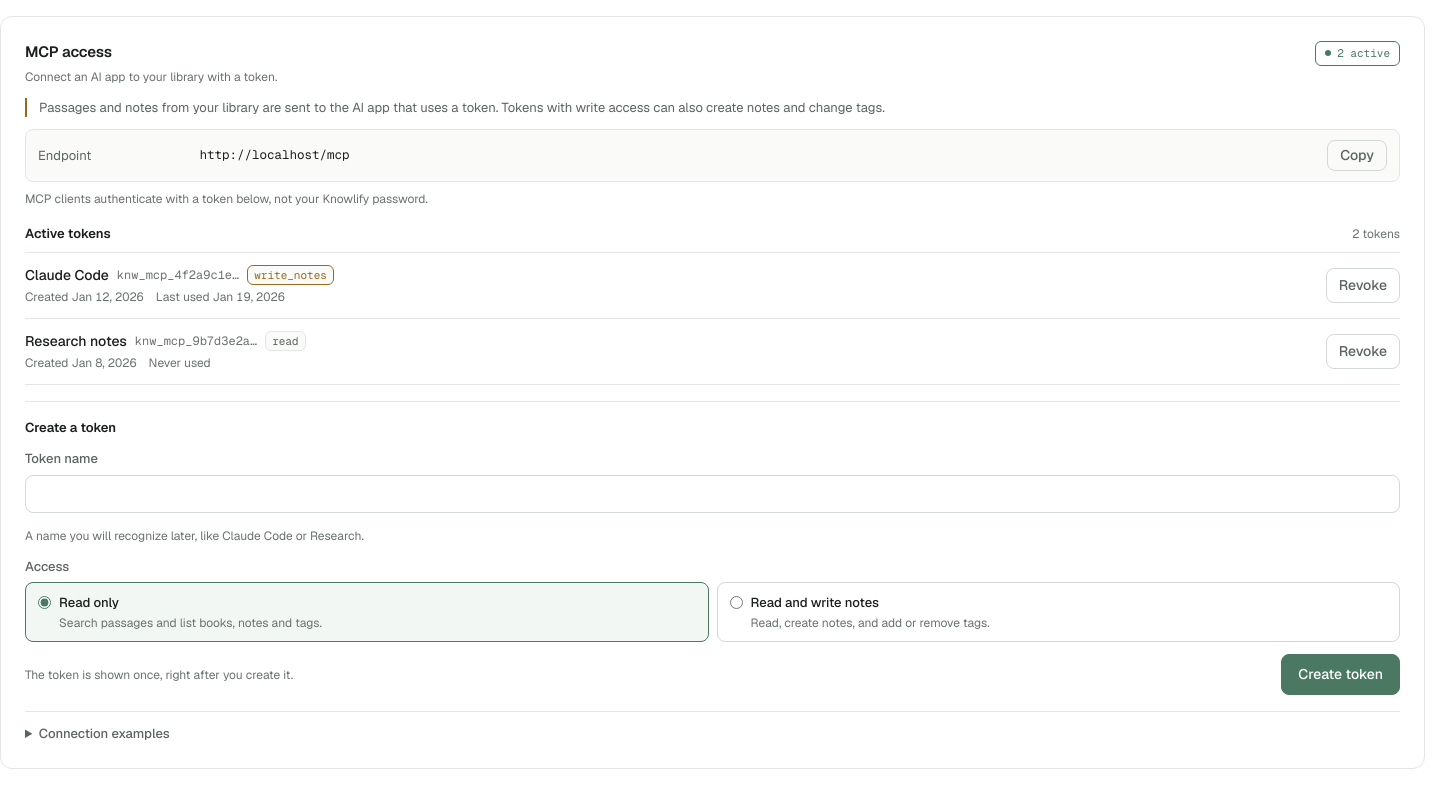
Scenario: McpCard › lists active tokens with scope, created and last use, and revokes one after confirmation
Expected: the text "Claude Code" is shown, [25,264,109,286]
Expected: the text "write_notes" is shown, [247,265,334,285]
Click the button with aria-label "Revoke Claude Code" at (1363, 285), box [1326,268,1400,302]
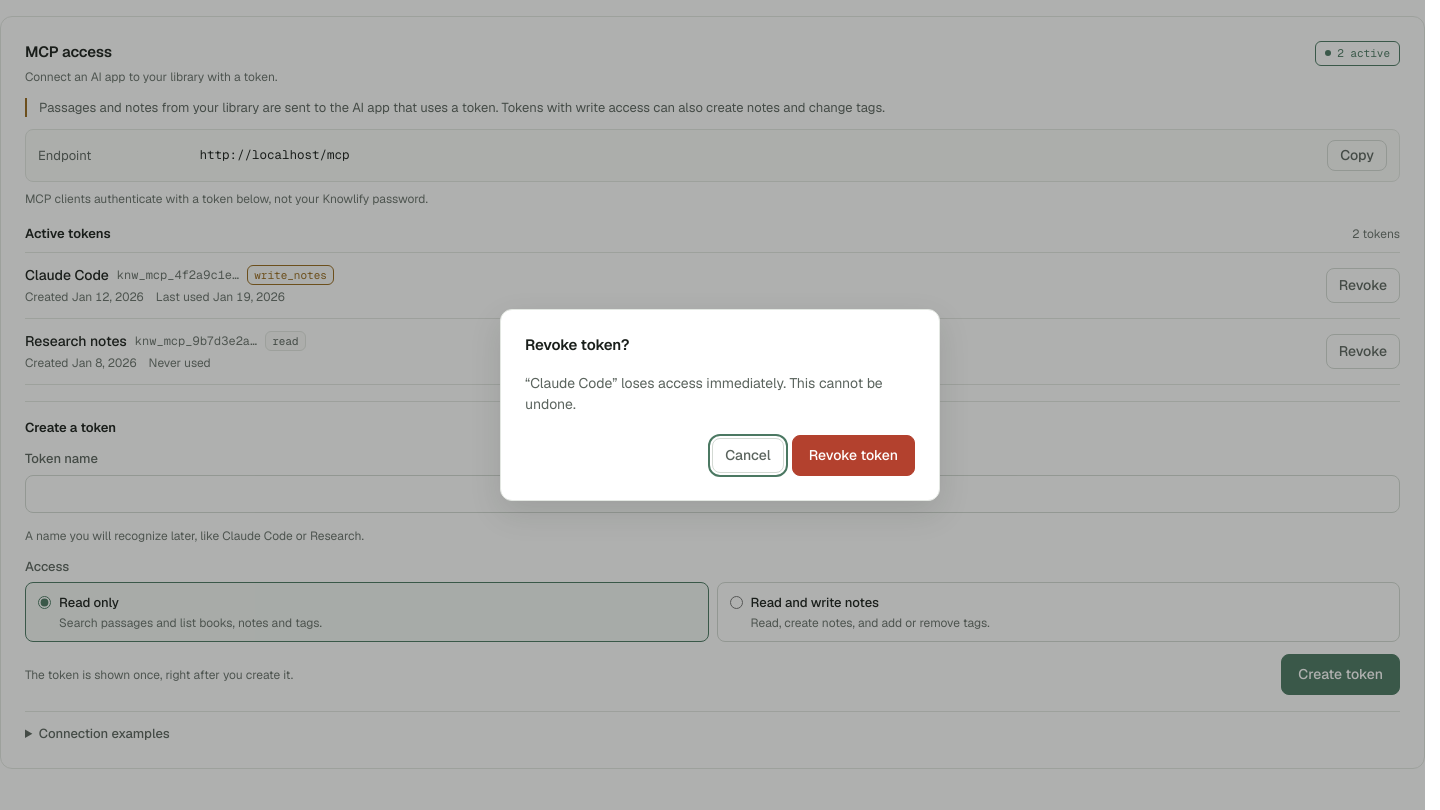
Click the button "Revoke token" at (853, 455), box [792,435,915,476]
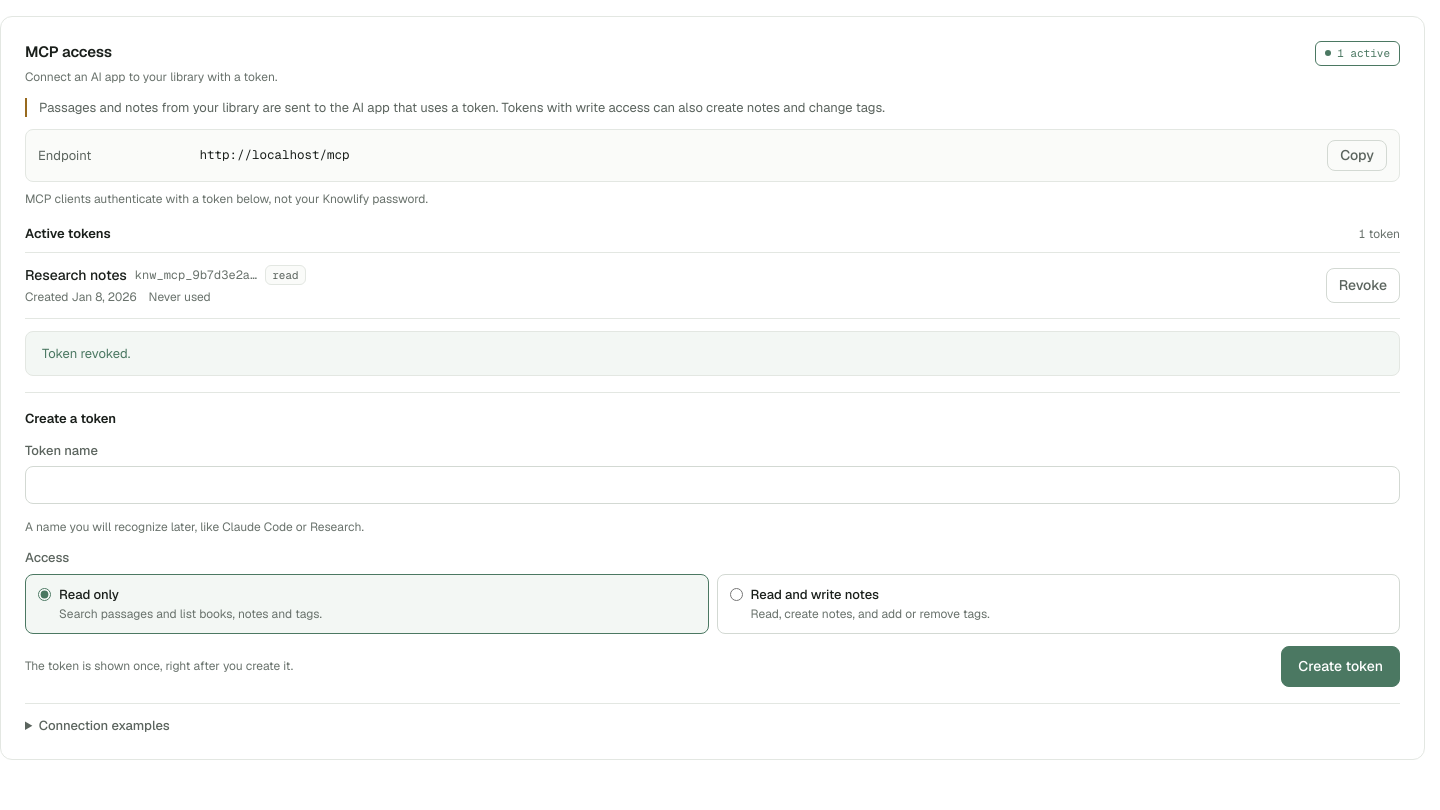
Result: the text "Token revoked." is shown at [25,330,1400,376]
